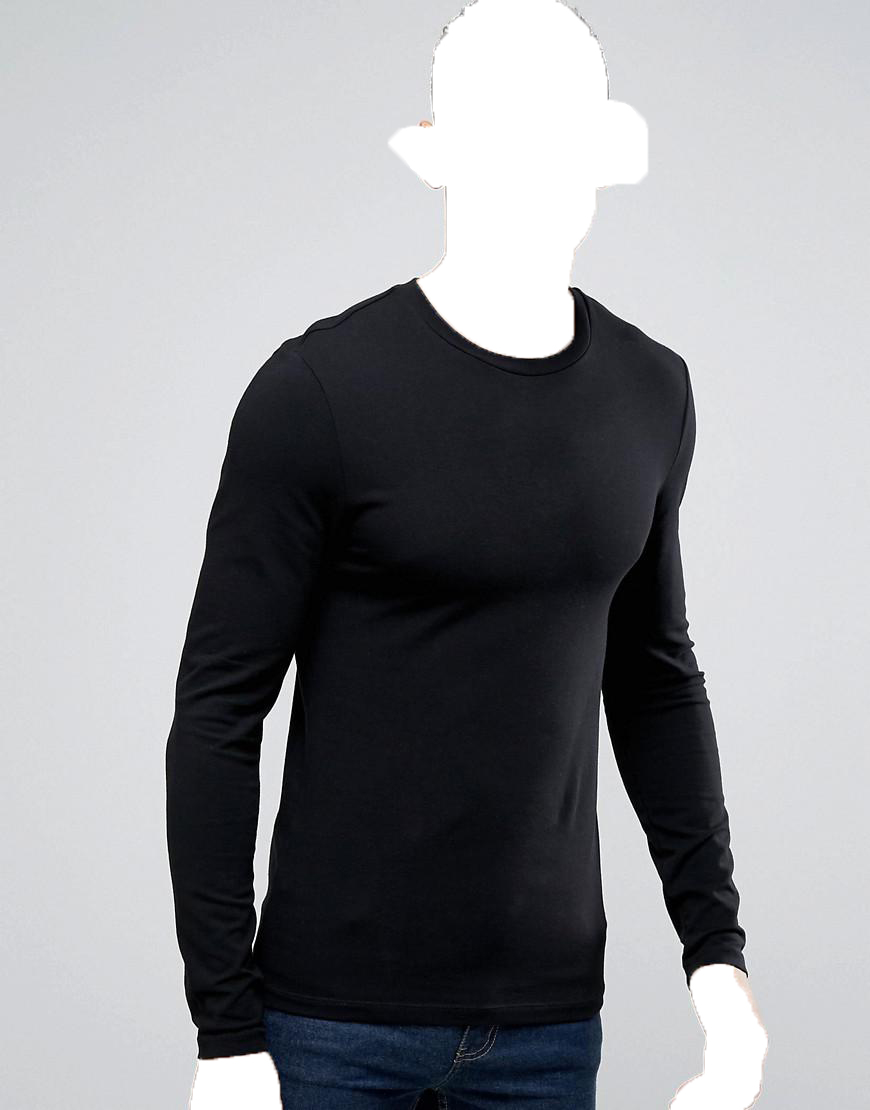teeshirt: (156, 279, 791, 1054)
